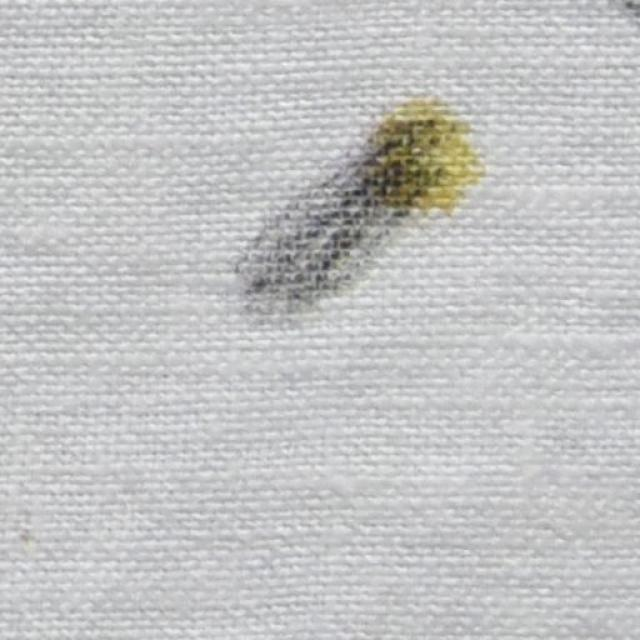Stain: (215, 88, 491, 328), (611, 0, 640, 28)
